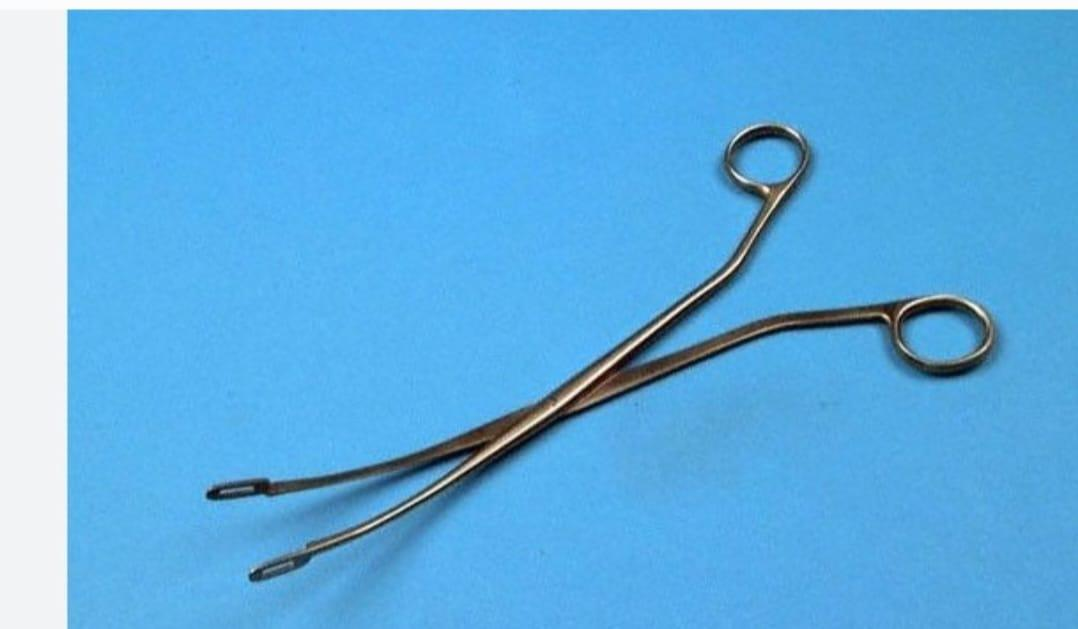Desjardin Forceps: (196, 112, 1000, 599)
